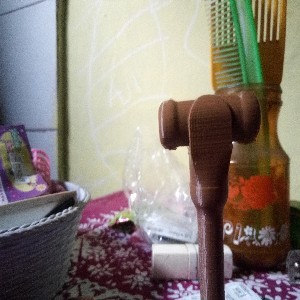palu: (158, 90, 262, 300)
